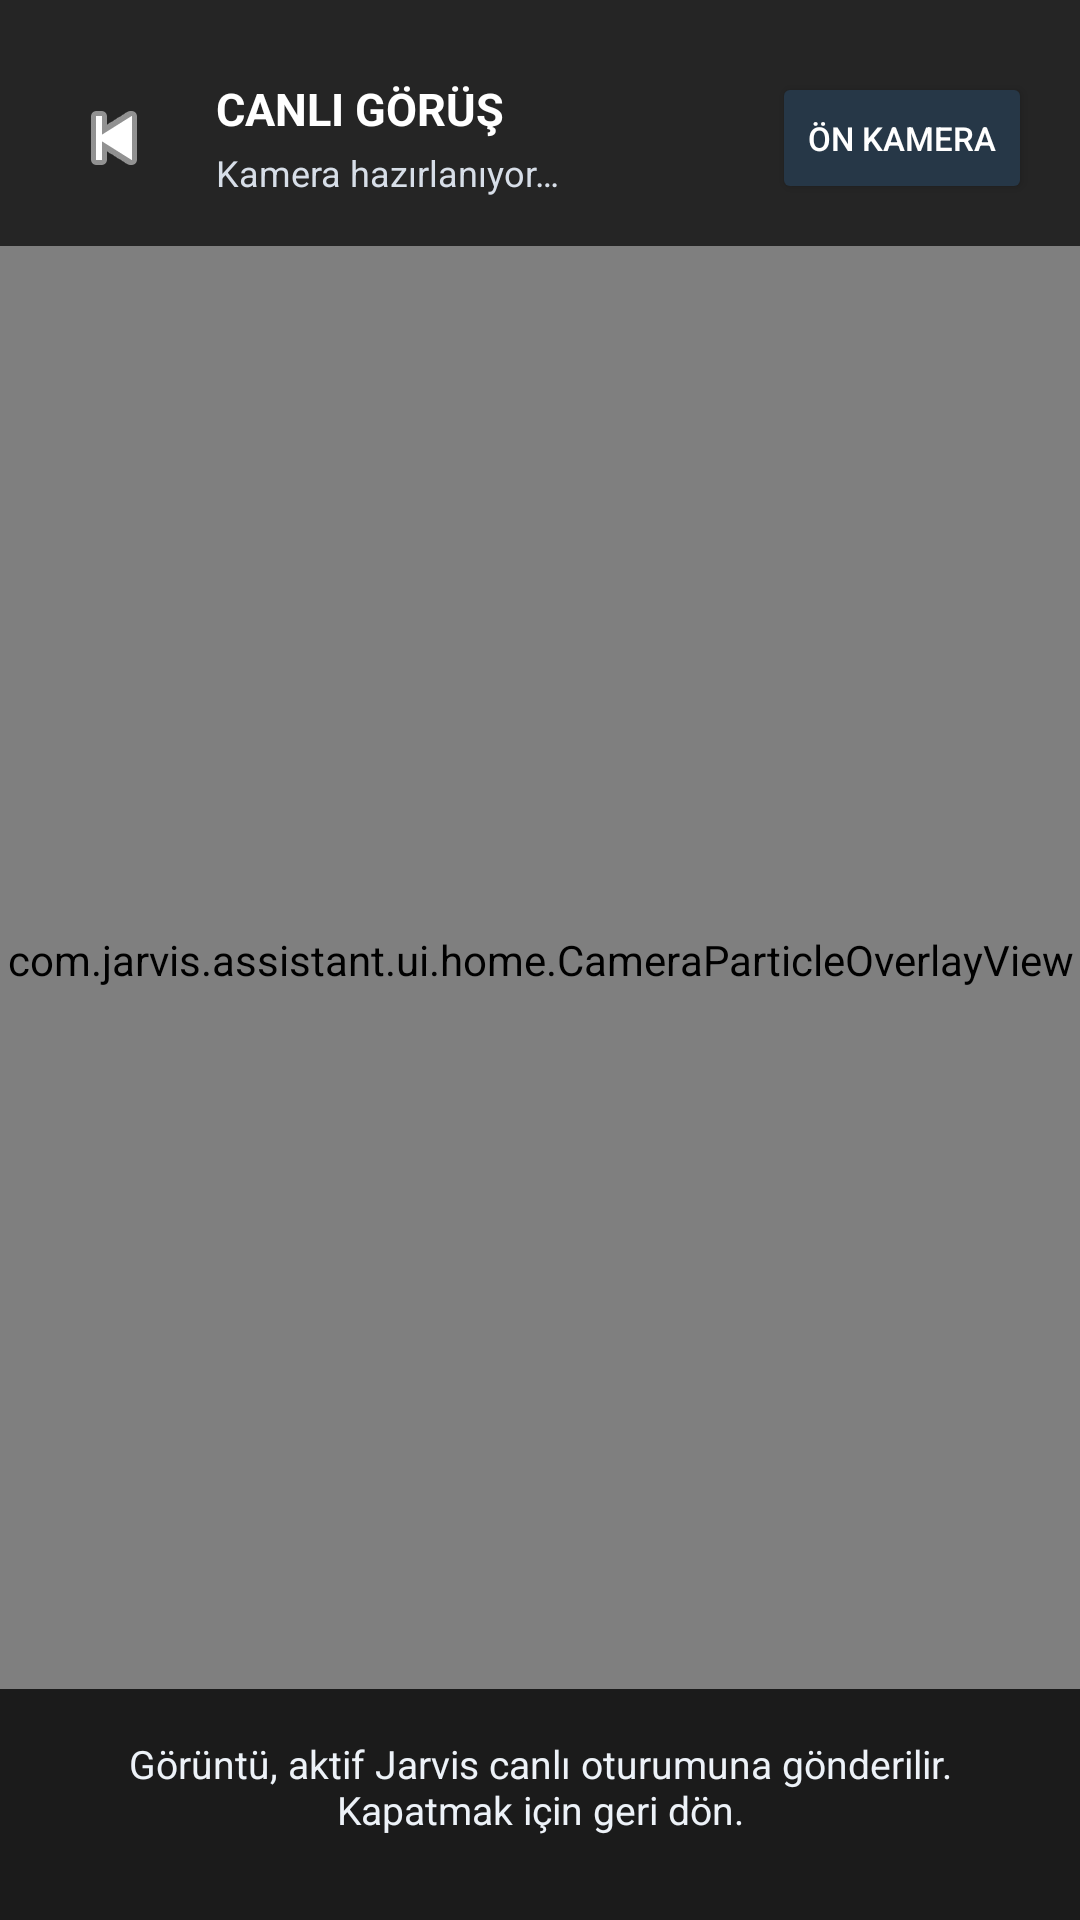

Named icons in this screenshot (1080px x 1920px) and their centers, (x,y):
Geri: (114,138)
